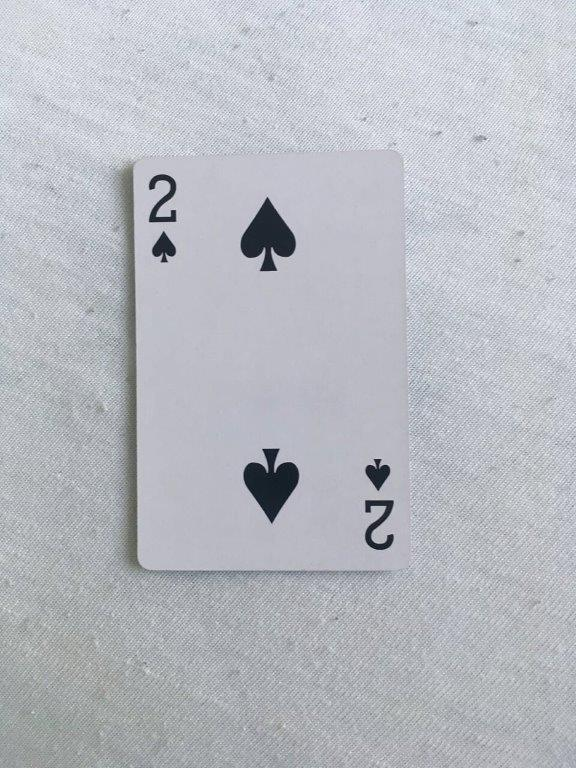2S: (129, 148, 415, 576)
